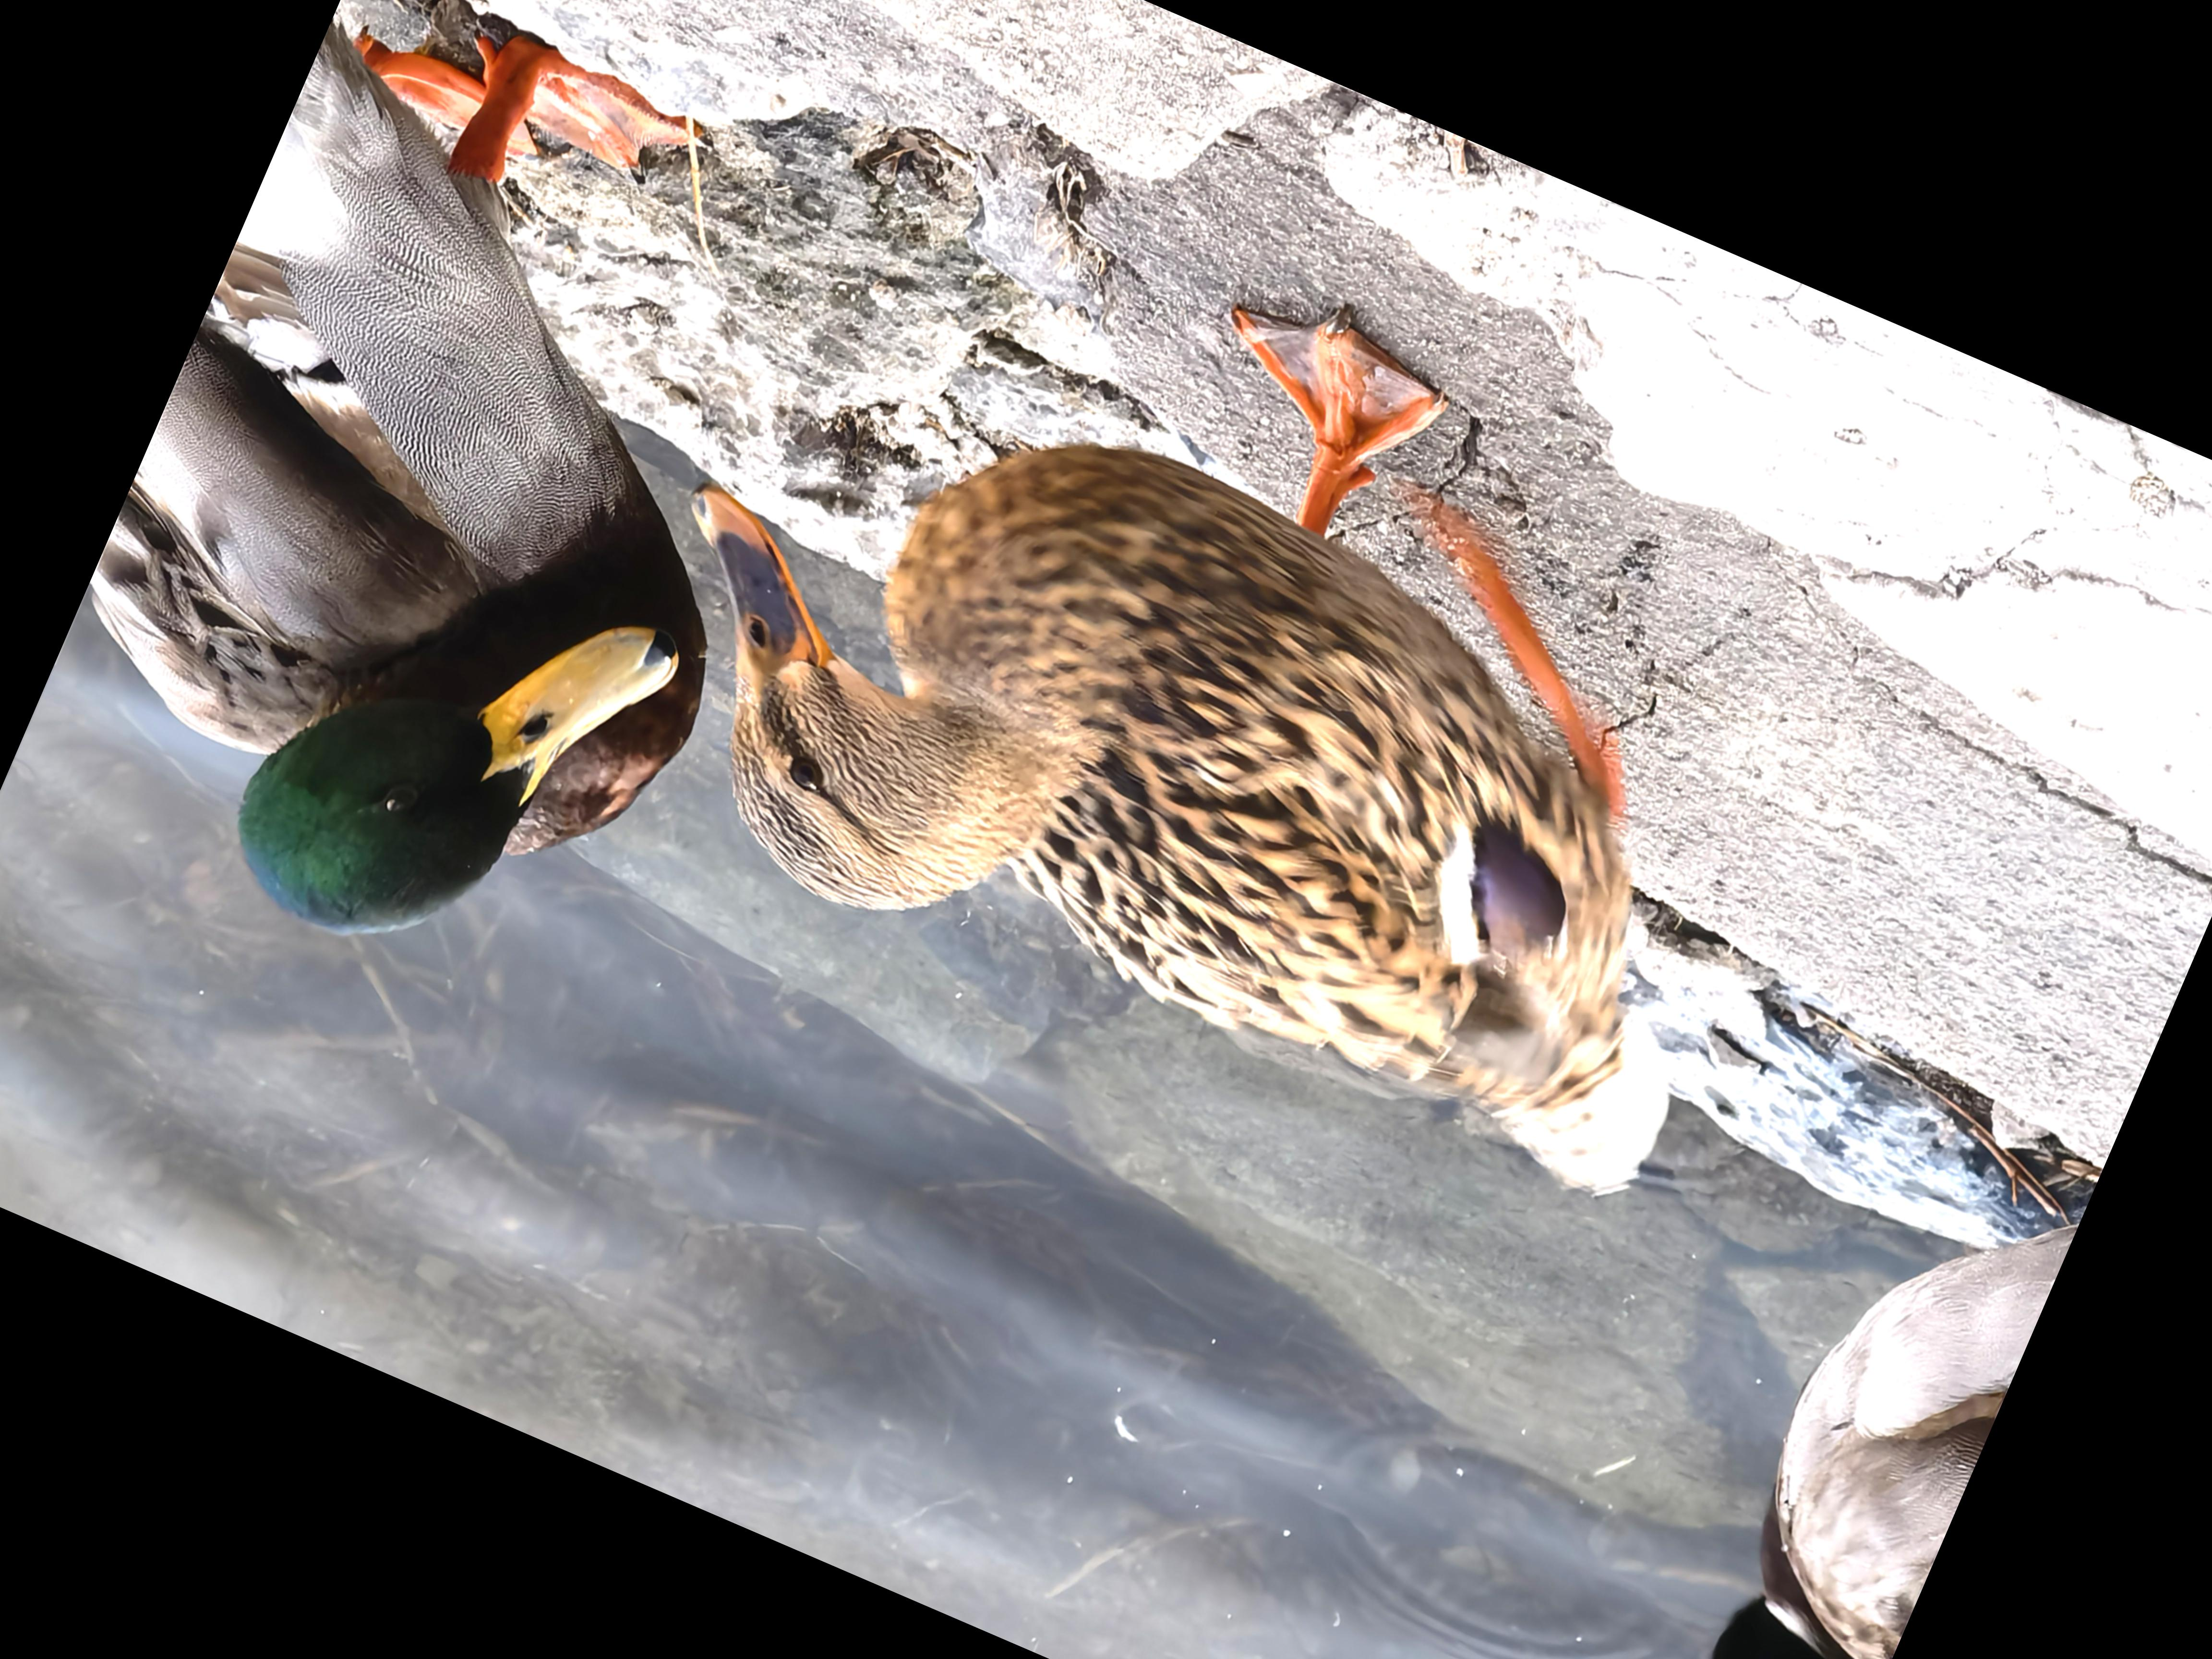duck: (510, 124, 1919, 1356), (0, 0, 930, 1101), (1566, 1122, 2078, 1659)
